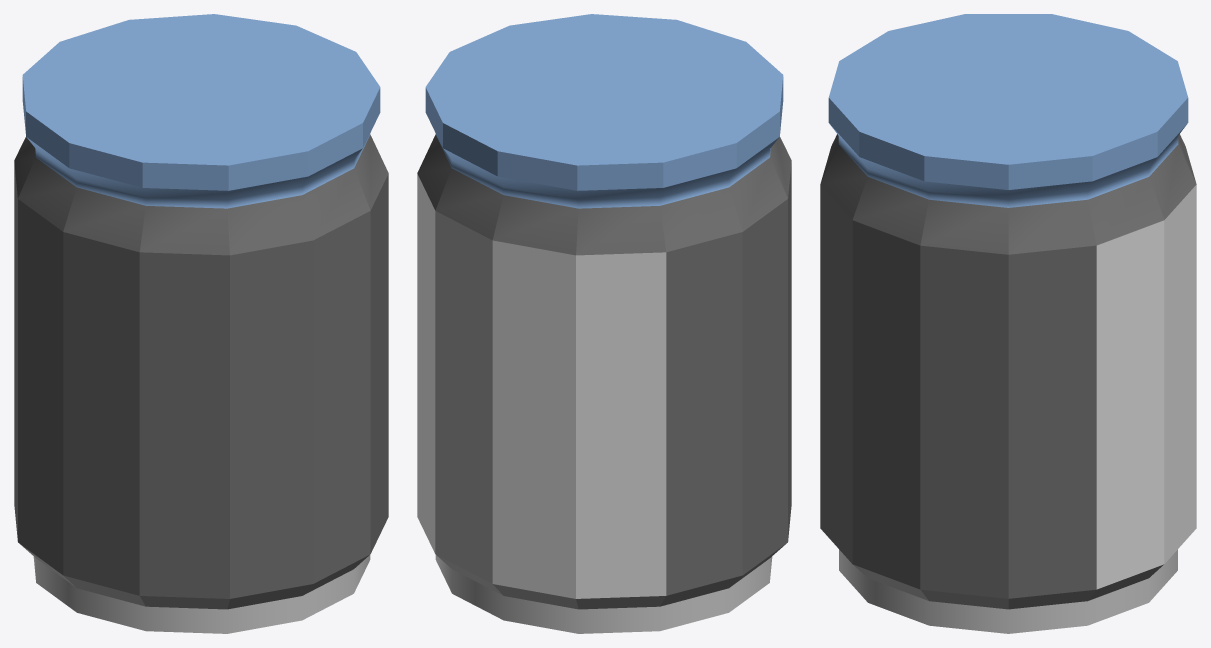
The model's file is PlasticBottle1.fbx.
3 views of the same model, side by side, from view 1: azimuth 30°, elevation 25°; view 2: azimuth 150°, elevation 25°; view 3: azimuth 270°, elevation 25° (orthographic).
Parts seen in each view (by area): view 1: pCylinder63; view 2: pCylinder63; view 3: pCylinder63.
Part boxes in pixels (bbox=[...]): pCylinder63: bbox=[14, 14, 388, 633]; pCylinder63: bbox=[417, 14, 791, 633]; pCylinder63: bbox=[820, 14, 1196, 633].
Bounding box in the file's own units: 14.31 × 20.02 × 14.42.
